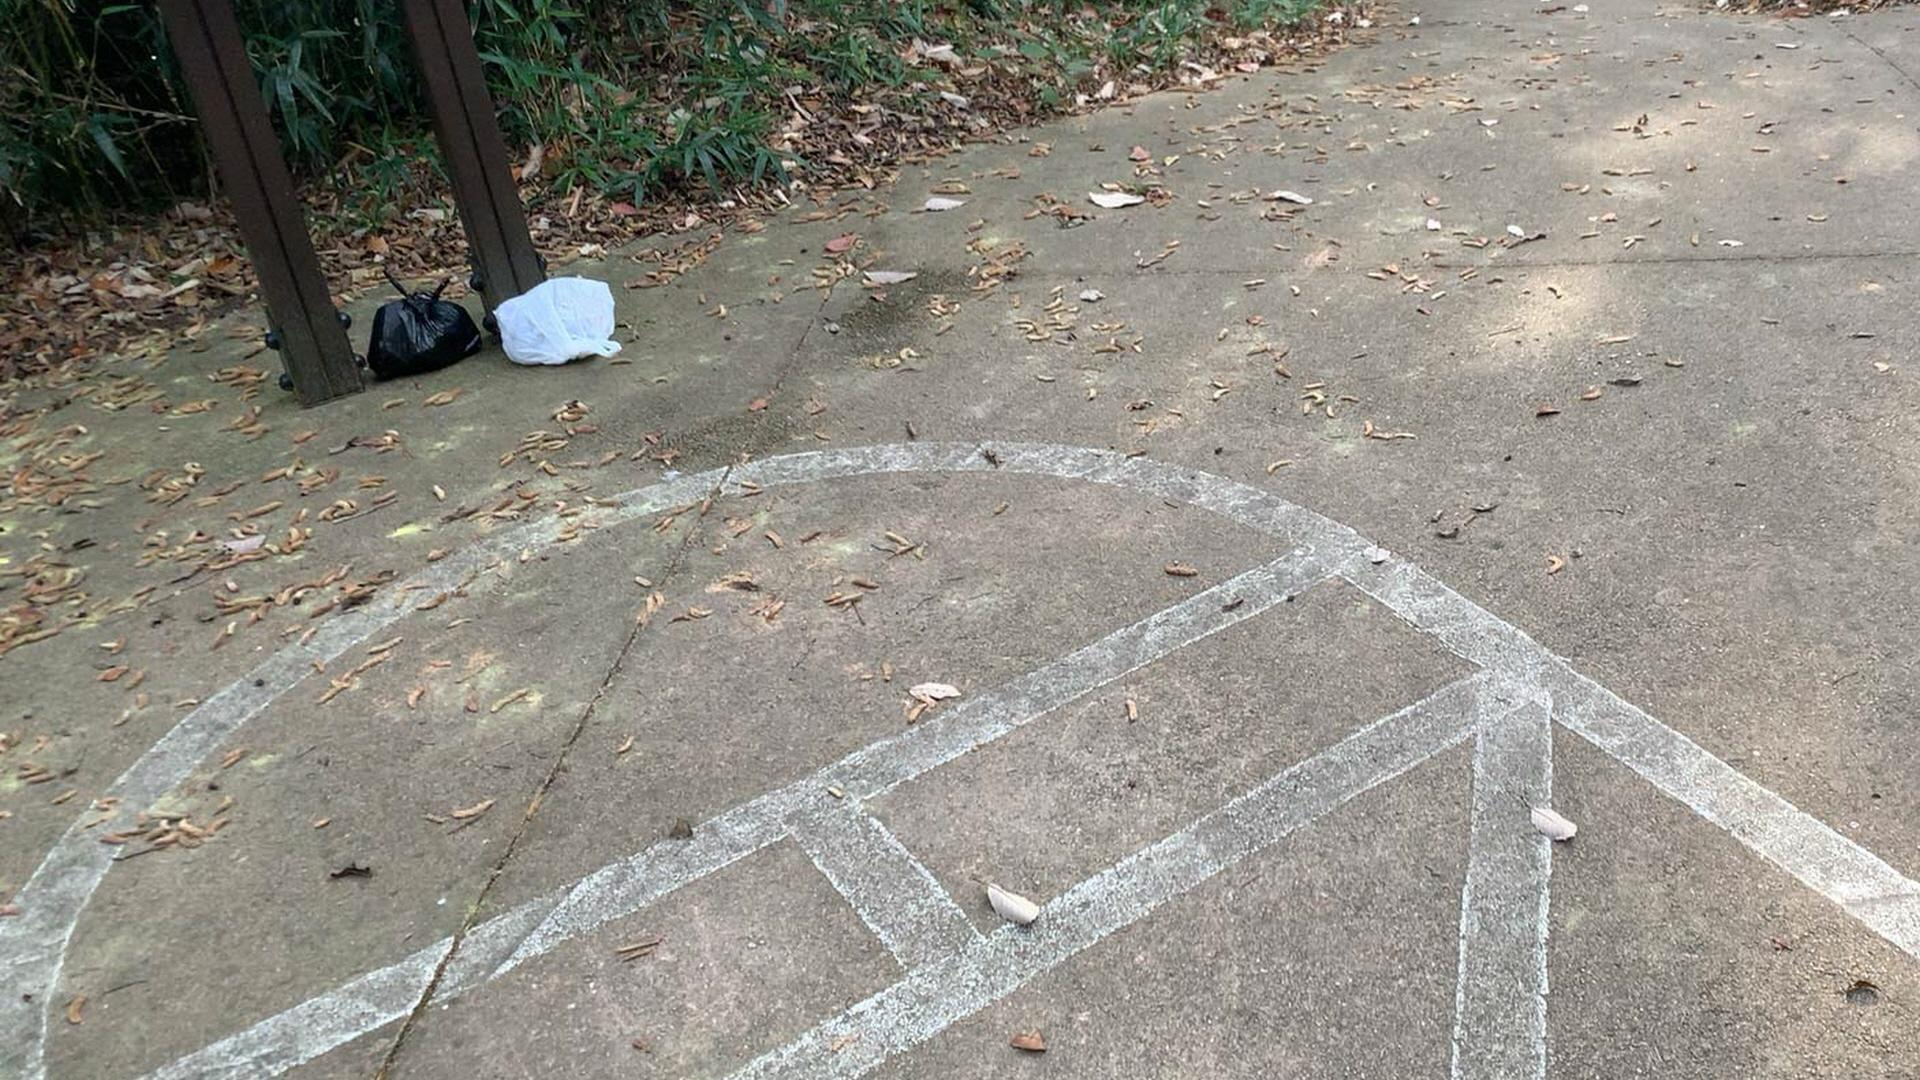black_bag: (357, 266, 487, 372)
white_bag: (483, 270, 626, 369)
